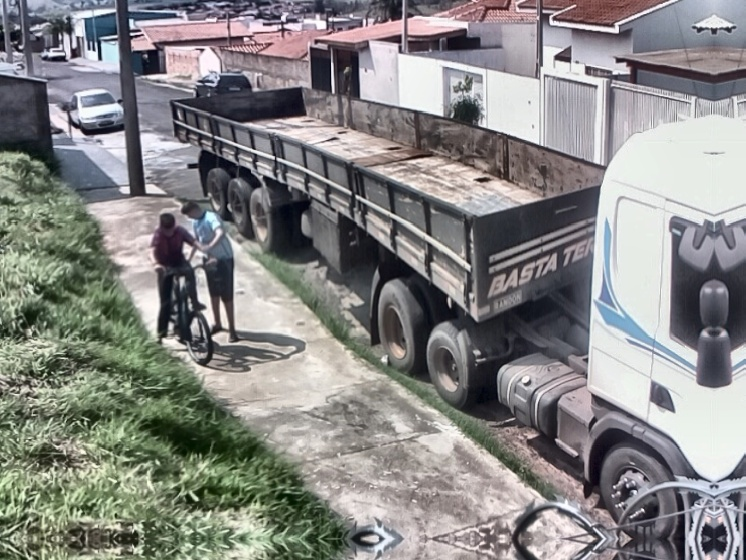person: (147, 210, 217, 352), (181, 200, 243, 345)
